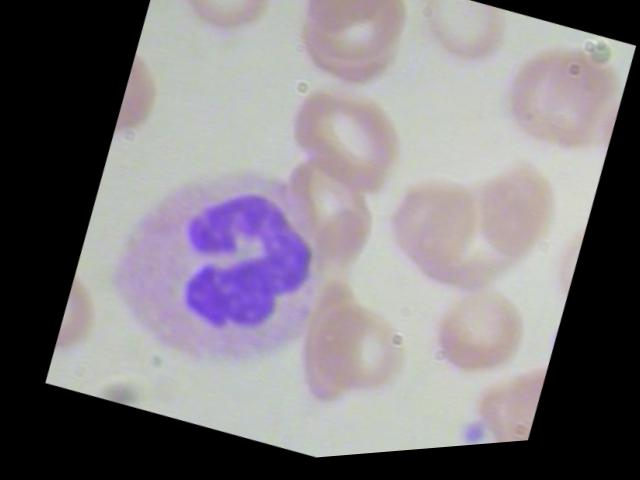Platelets: (440, 417, 486, 453)
Red Blood Cells: (259, 145, 406, 287), (346, 158, 493, 300), (270, 287, 417, 428), (266, 73, 412, 214), (441, 155, 577, 295), (481, 34, 610, 168), (404, 273, 533, 406), (399, 0, 515, 89), (154, 0, 290, 69), (279, 0, 411, 68), (299, 429, 414, 462)
White Blood Cells: (67, 114, 357, 413)
